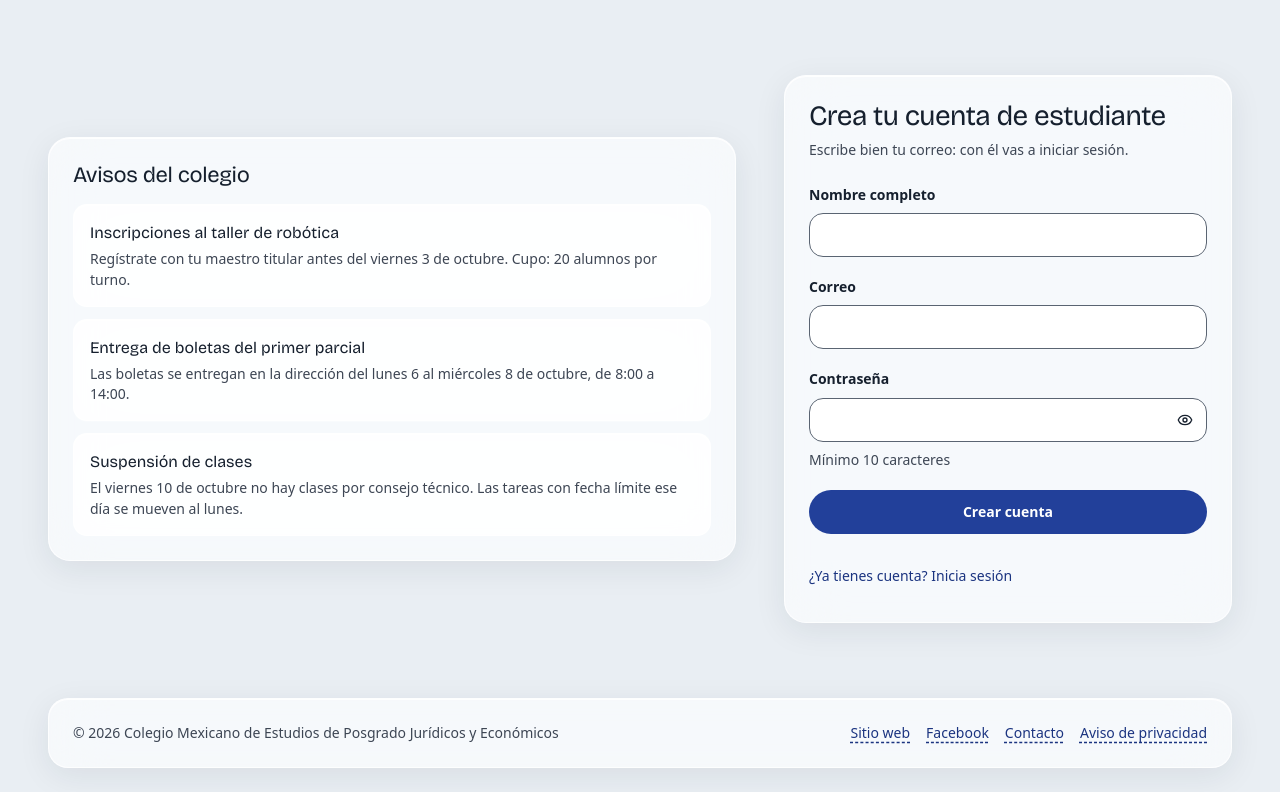
Test: ataque: doble envío › dos clics en 'Crear cuenta' separados por una tarea del navegador hacen una sola petición
Type "Ana López" into the field labelled "Nombre completo" at (1008, 235), box [809,213,1207,257]
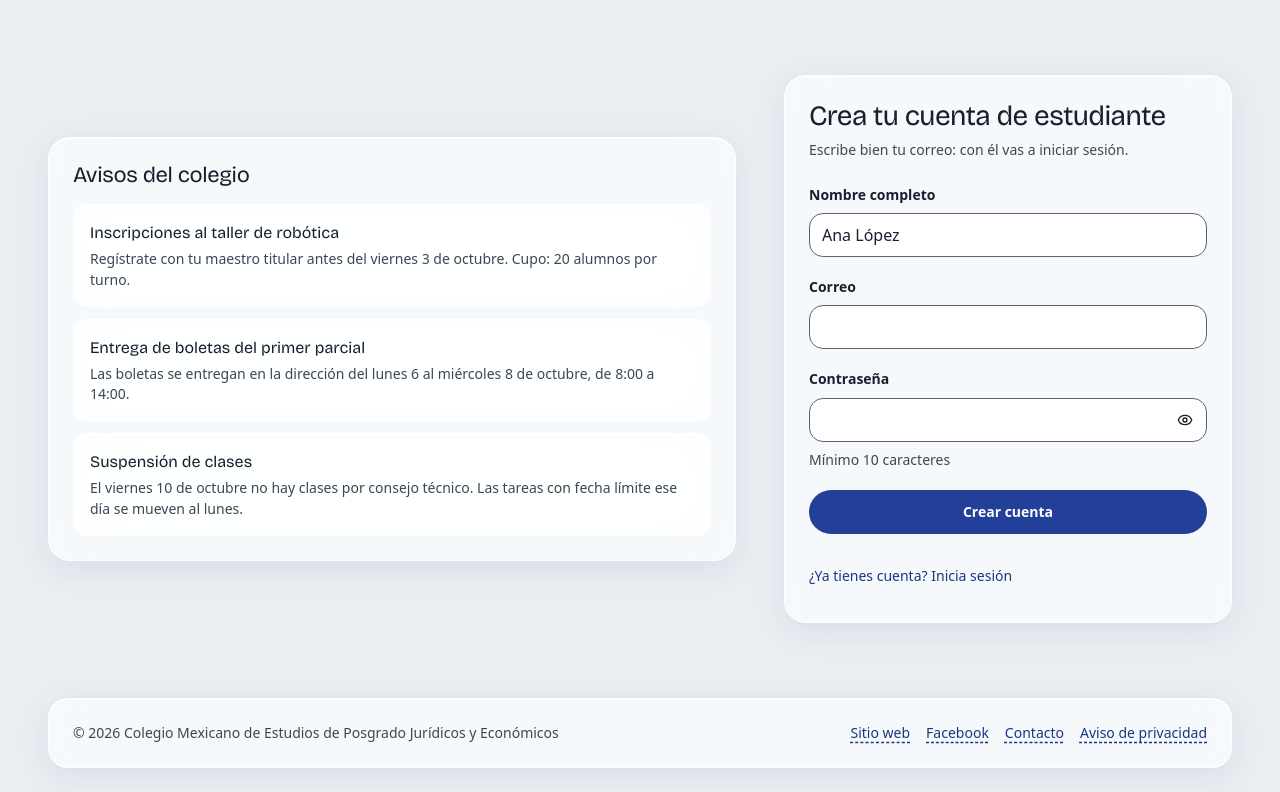
Type "ana@ejemplo.mx" into the field labelled "Correo" at (1008, 327), box [809,305,1207,349]
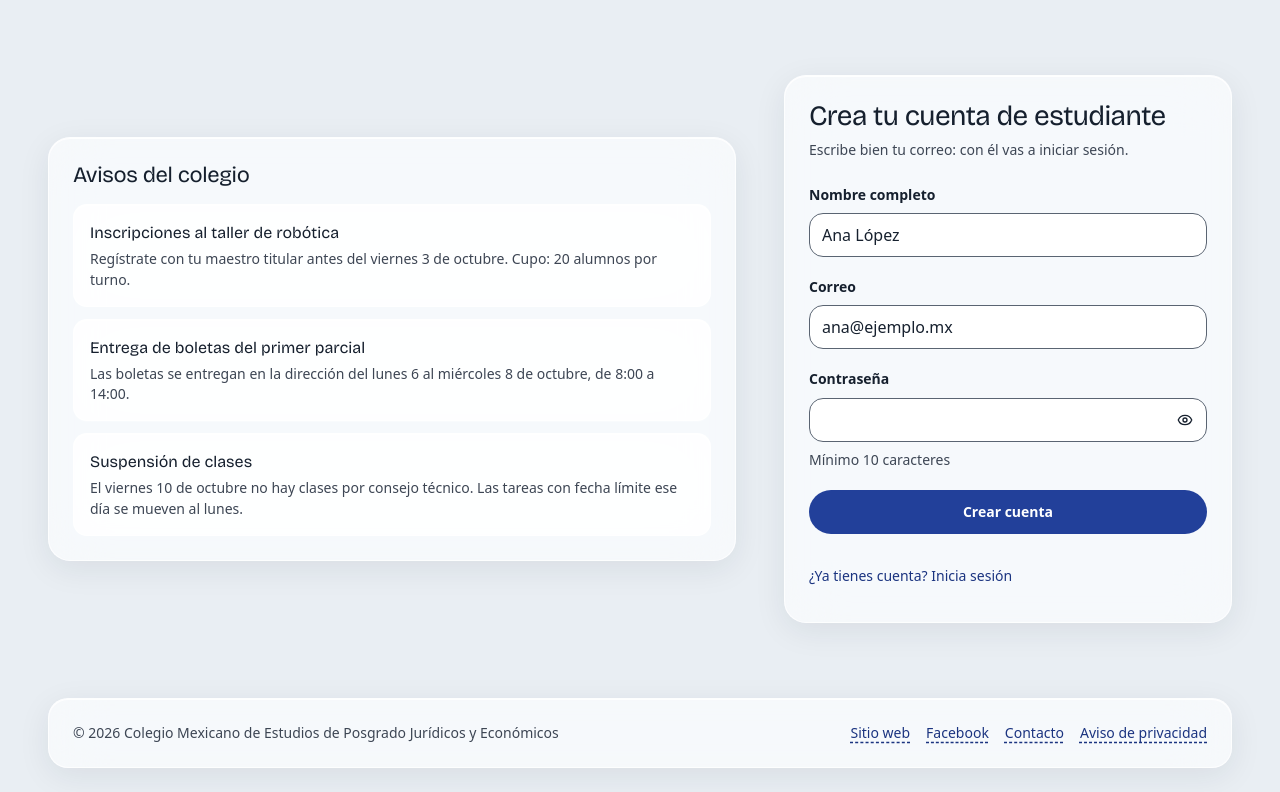
Type "clave-de-prueba-1234" into the password field labelled "Contraseña" at (1008, 420), box [809,398,1207,442]
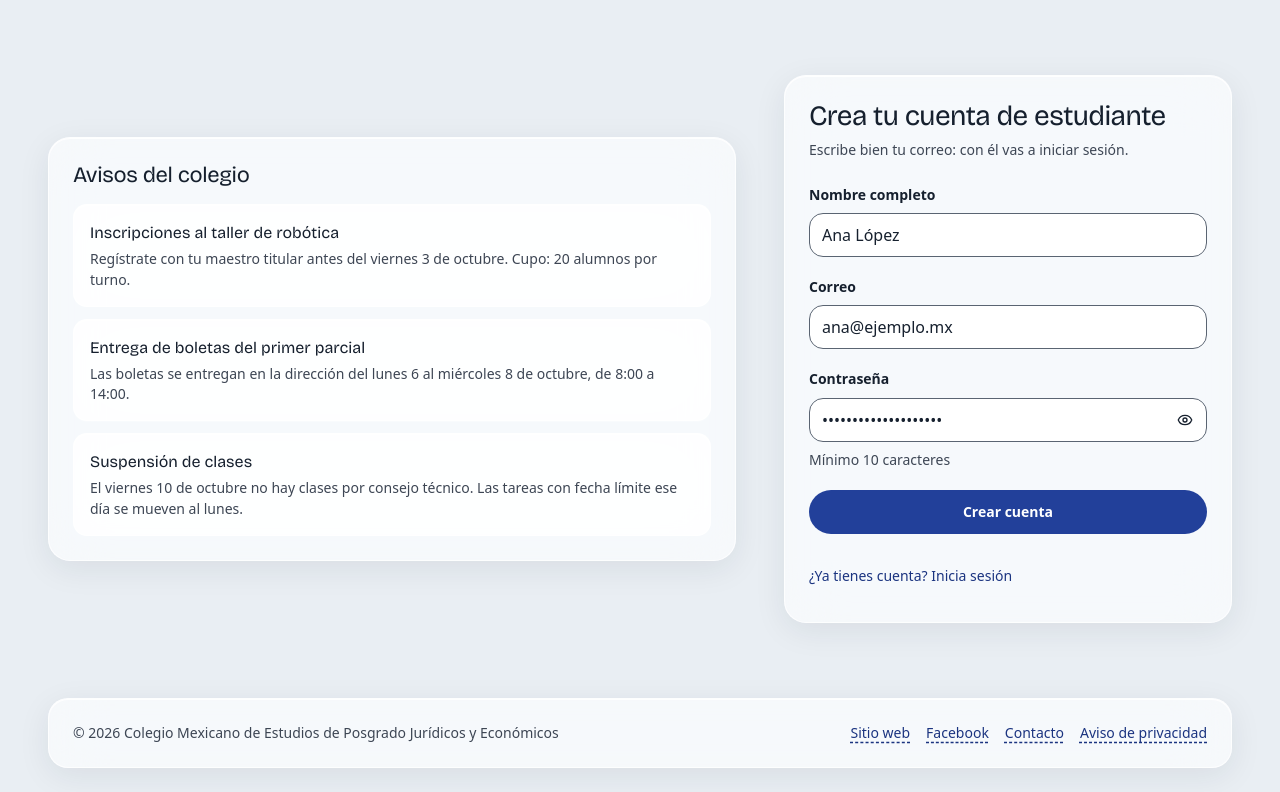
Click the button "Crear cuenta" at (1008, 512), box [809,490,1207,534]
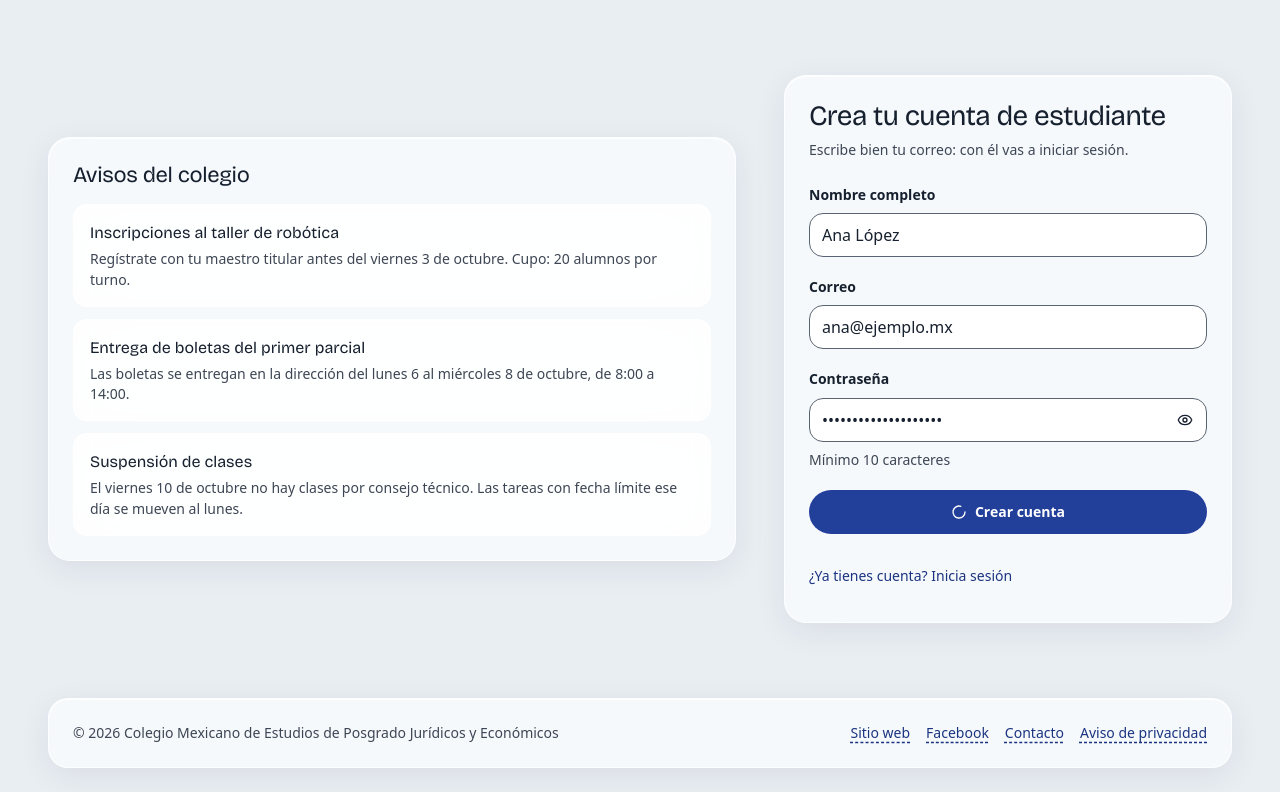
Click the button "Crear cuenta" at (1008, 512), box [809,490,1207,534]
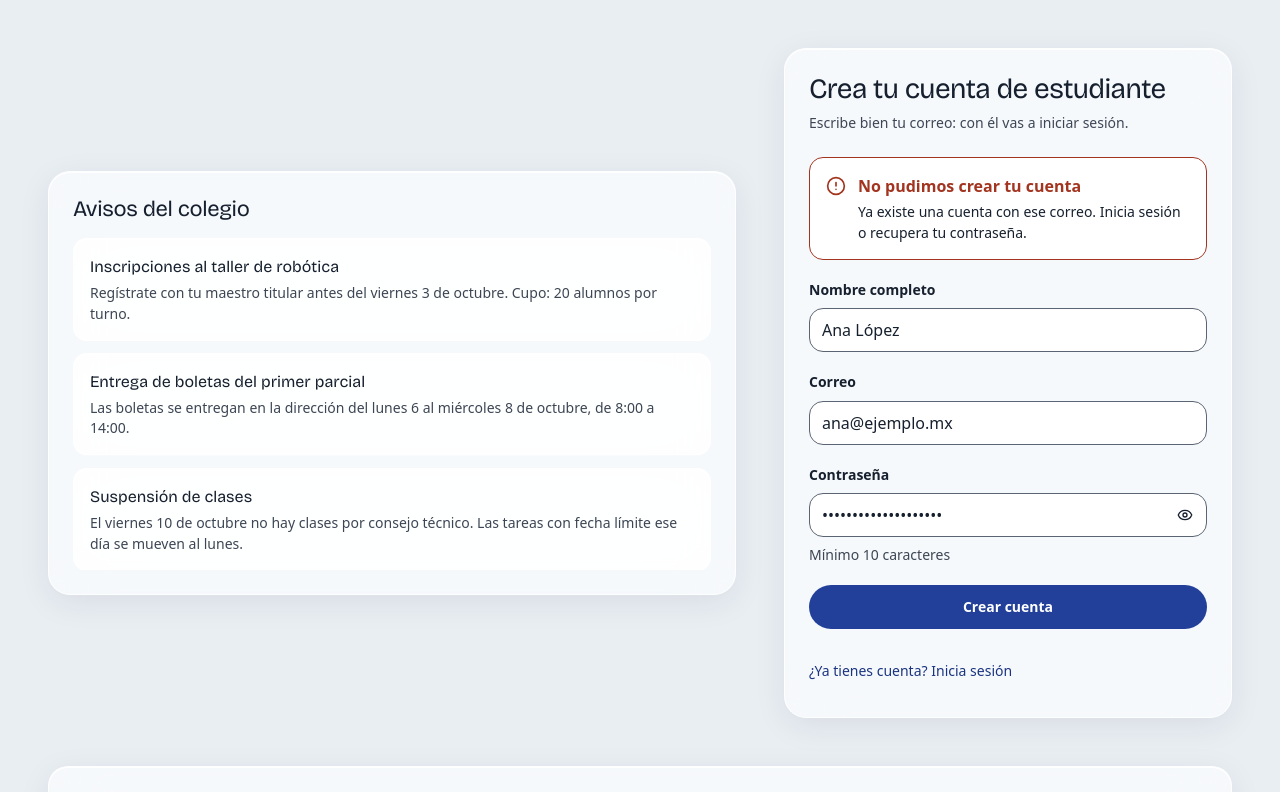
Expected: the message shows "Ya existe una cuenta con ese correo", [858,202,1181,242]
